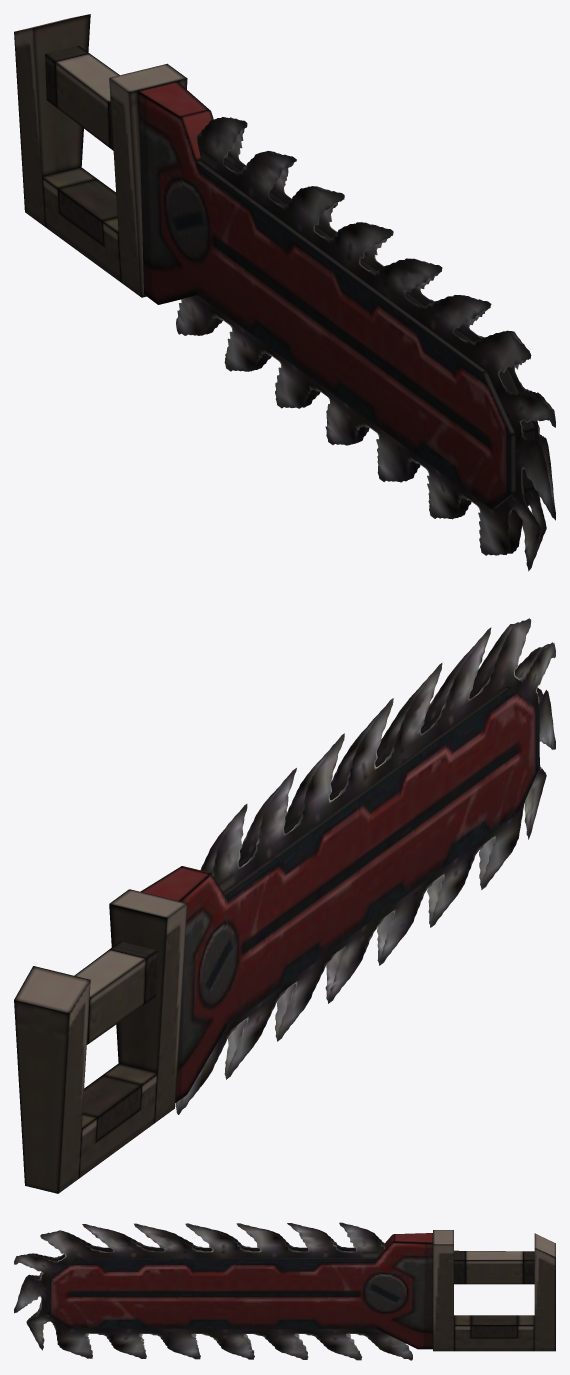
Rendered from Sword.obj.
3 renders of one model, top to bottom at view 1: azimuth 30°, elevation 25°; view 2: azimuth 150°, elevation 25°; view 3: azimuth 270°, elevation 25°, orthographic. The views are drawn at different scales.
Parts seen in each view (by area): view 1: weapon_007_s; view 2: weapon_007_s; view 3: weapon_007_s.
Part boxes in pixels (<box>): weapon_007_s: <box>14,14,555,571</box>; weapon_007_s: <box>14,618,555,1193</box>; weapon_007_s: <box>14,1222,555,1360</box>.
Bounding box in the file's own units: 0.1394 × 0.5998 × 2.13.
Materials: 1 (1 with a texture image).
